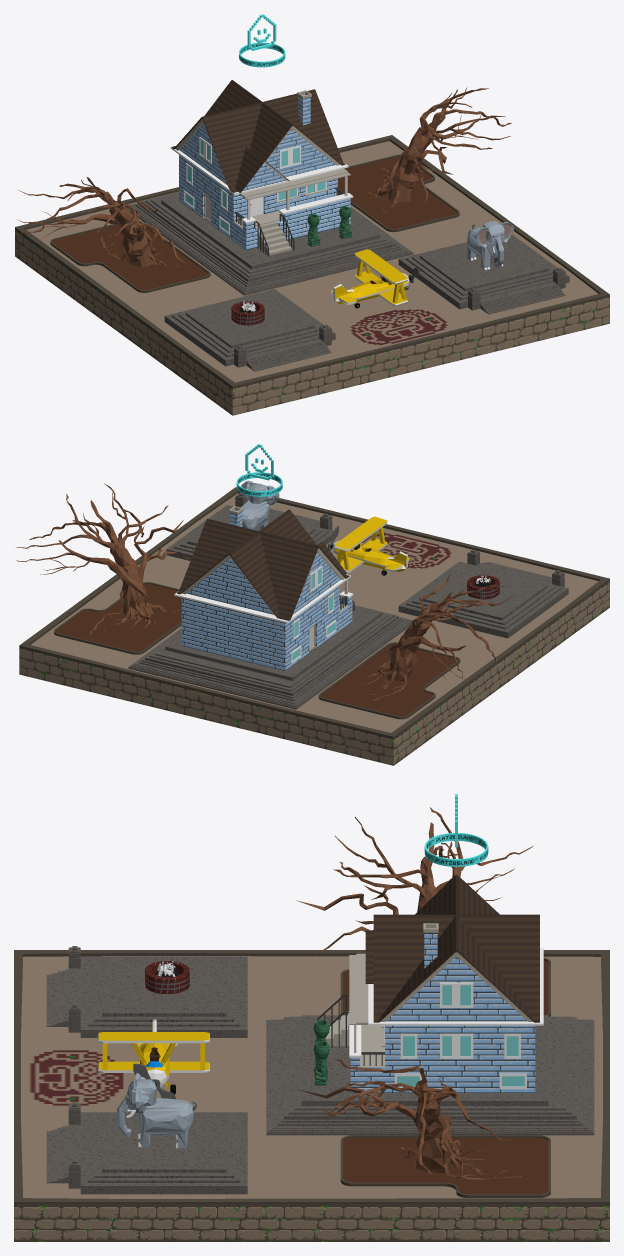
3 views of the same model, one above another, from view 1: azimuth 30°, elevation 25°; view 2: azimuth 150°, elevation 25°; view 3: azimuth 270°, elevation 25° (orthographic). The views are drawn at different scales.
Visible parts, largest first — view 1: Cube.011, Cube.547, VEHICLES_AIRPLANE, ANIMAL_ELEFANTE, TYPE_PREMIUM, OBJRANDOM_CAMPFIRE; view 2: Cube.011, Cube.547, VEHICLES_AIRPLANE, ANIMAL_ELEFANTE, TYPE_PREMIUM, OBJRANDOM_CAMPFIRE; view 3: Cube.011, Cube.547, VEHICLES_AIRPLANE, ANIMAL_ELEFANTE, OBJRANDOM_CAMPFIRE, TYPE_PREMIUM.
Part boxes in pixels (x1=…): Cube.011: x1=15, y1=87, x2=609, y2=415; Cube.547: x1=170, y1=80, x2=353, y2=256; VEHICLES_AIRPLANE: x1=331, y1=249, x2=419, y2=308; ANIMAL_ELEFANTE: x1=467, y1=221, x2=513, y2=270; TYPE_PREMIUM: x1=239, y1=14, x2=285, y2=67; OBJRANDOM_CAMPFIRE: x1=231, y1=299, x2=264, y2=325; Cube.011: x1=16, y1=483, x2=609, y2=765; Cube.547: x1=174, y1=506, x2=354, y2=670; VEHICLES_AIRPLANE: x1=327, y1=516, x2=410, y2=575; ANIMAL_ELEFANTE: x1=240, y1=480, x2=279, y2=530; TYPE_PREMIUM: x1=236, y1=444, x2=282, y2=496; OBJRANDOM_CAMPFIRE: x1=467, y1=574, x2=499, y2=599; Cube.011: x1=14, y1=807, x2=609, y2=1241; Cube.547: x1=317, y1=875, x2=543, y2=1092; VEHICLES_AIRPLANE: x1=97, y1=1019, x2=209, y2=1099; ANIMAL_ELEFANTE: x1=117, y1=1073, x2=196, y2=1148; OBJRANDOM_CAMPFIRE: x1=145, y1=958, x2=189, y2=993; TYPE_PREMIUM: x1=424, y1=794, x2=488, y2=866.
Size of the model in its own units: 5099 by 2567 by 4000.
Materials: 39 (7 with a texture image).
